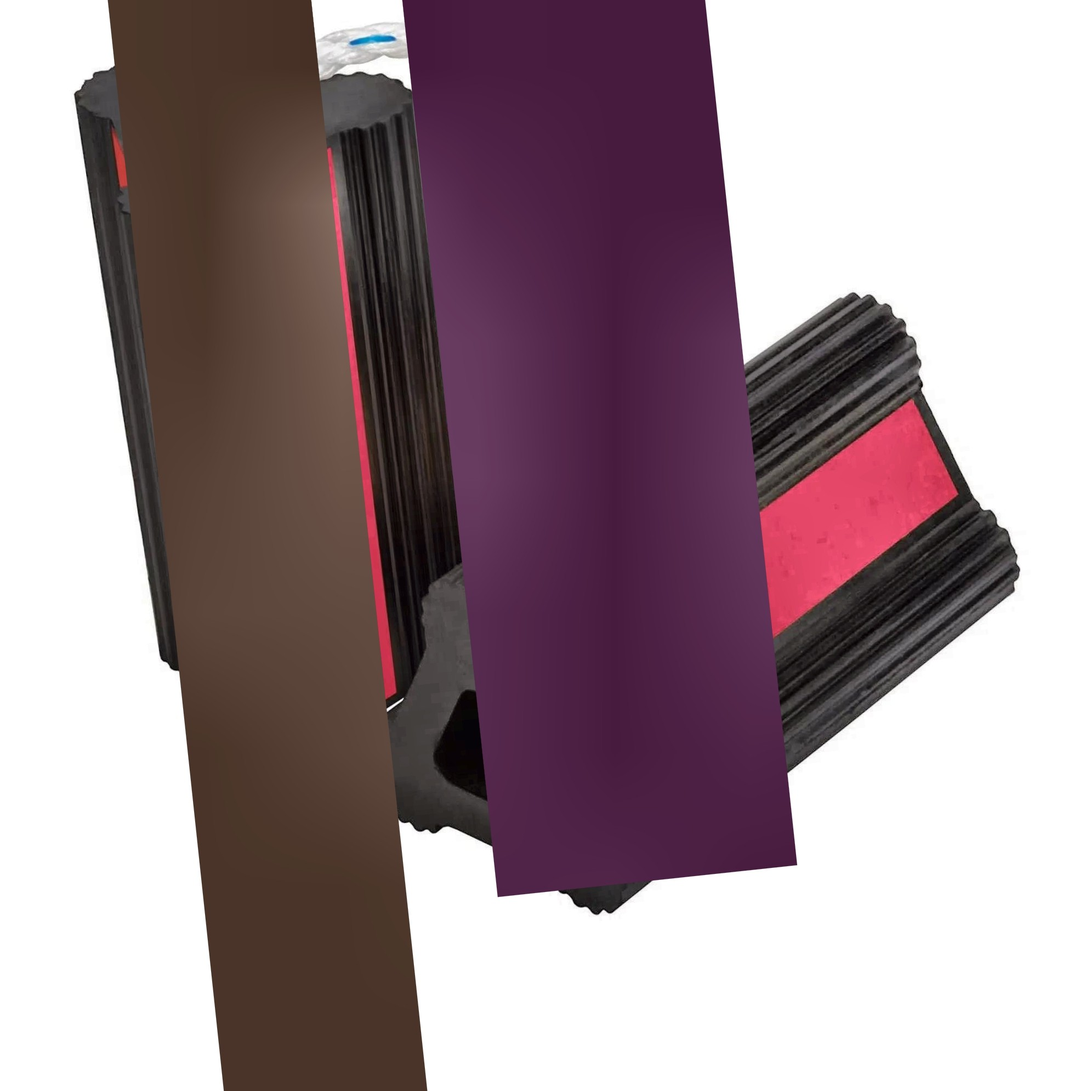chock: (319, 267, 1055, 944), (53, 21, 491, 812)
